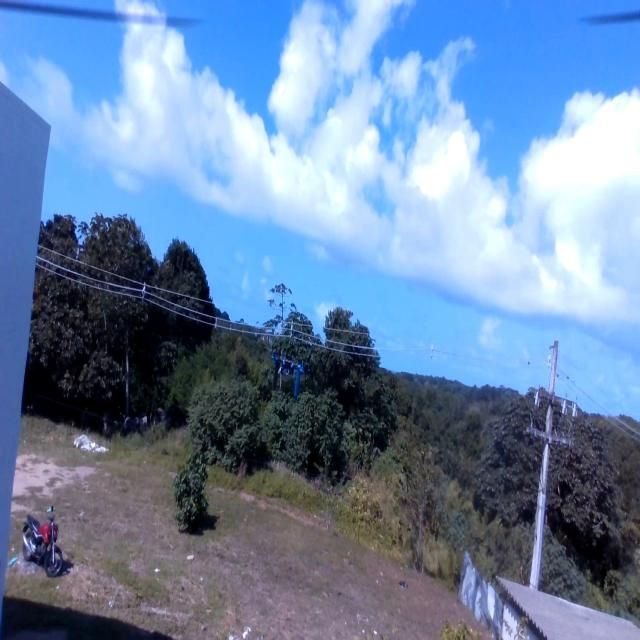-uav-: (269, 346, 308, 402)
